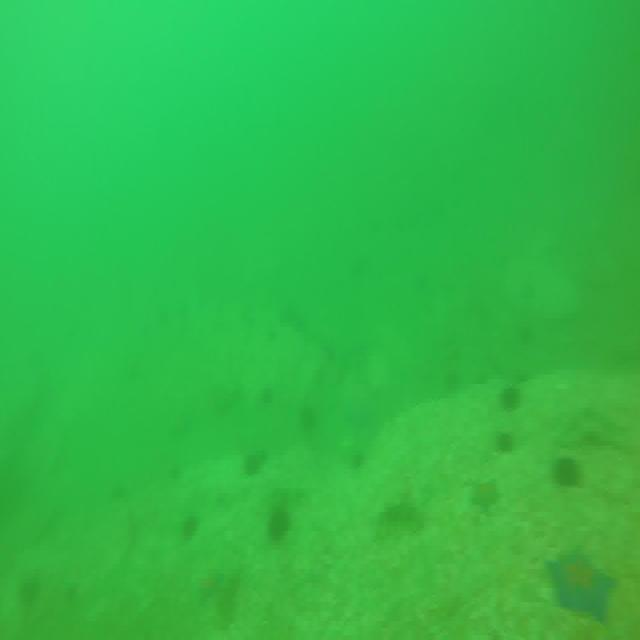echinus: (552, 455, 584, 487), (268, 502, 292, 542), (246, 451, 270, 478), (501, 385, 523, 413), (180, 512, 200, 538), (496, 430, 516, 456)
starfish: (547, 546, 618, 624), (469, 478, 503, 510)
